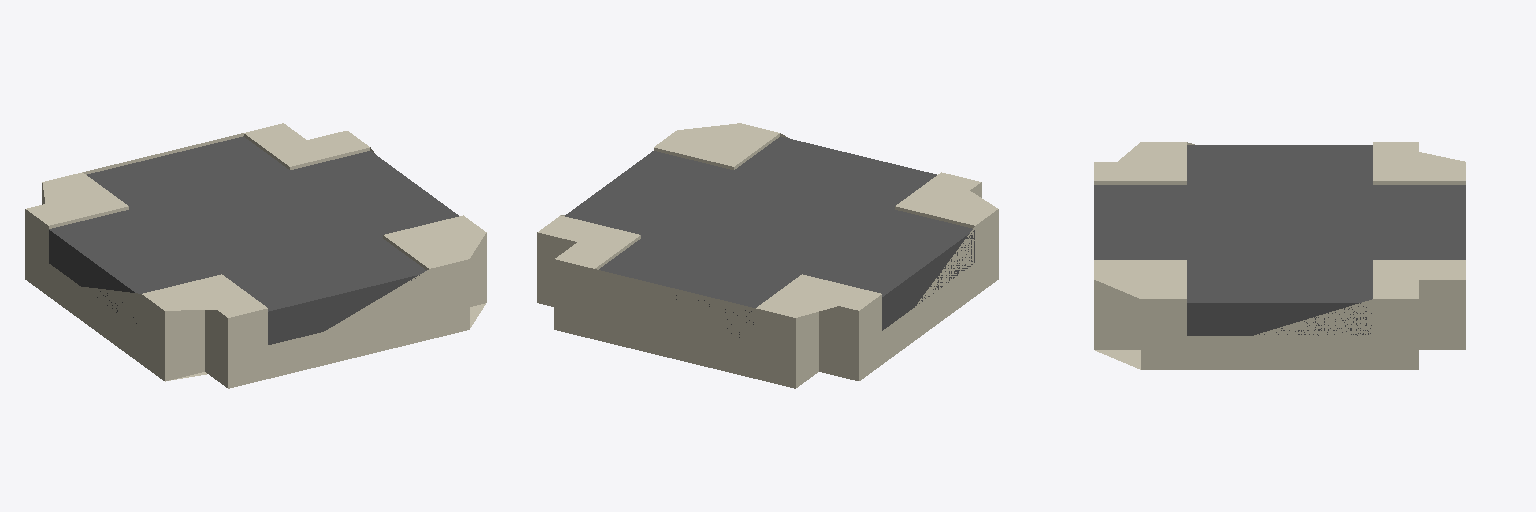
The model's file is roadTileCross.obj.
The picture shows the model from 3 angles: view 1: azimuth 30°, elevation 25°; view 2: azimuth 150°, elevation 25°; view 3: azimuth 270°, elevation 25°; orthographic projection.
Parts seen in each view (by area): view 1: Mesh1 Group1 Model; view 2: Mesh1 Group1 Model; view 3: Mesh1 Group1 Model.
Part boxes in pixels (x1,y1,x2,y2): Mesh1 Group1 Model: (25, 123, 486, 388); Mesh1 Group1 Model: (537, 123, 998, 388); Mesh1 Group1 Model: (1094, 142, 1465, 369).
Bounding box in the file's own units: 3 × 0.63 × 3.